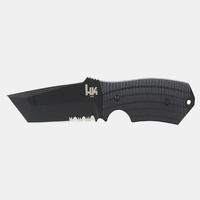knife: (2, 69, 199, 131)
